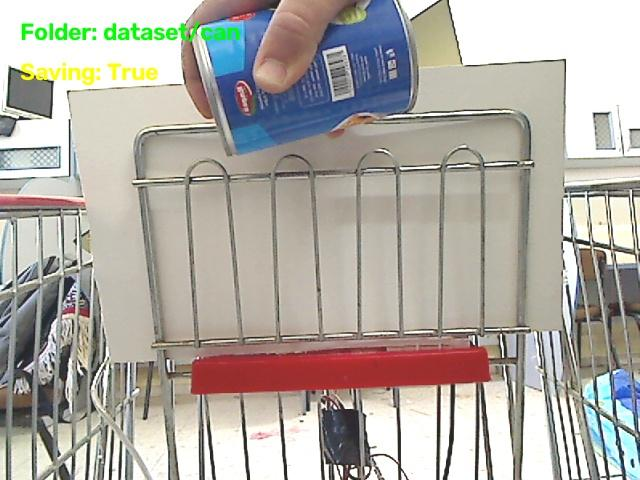can: (193, 0, 417, 154)
